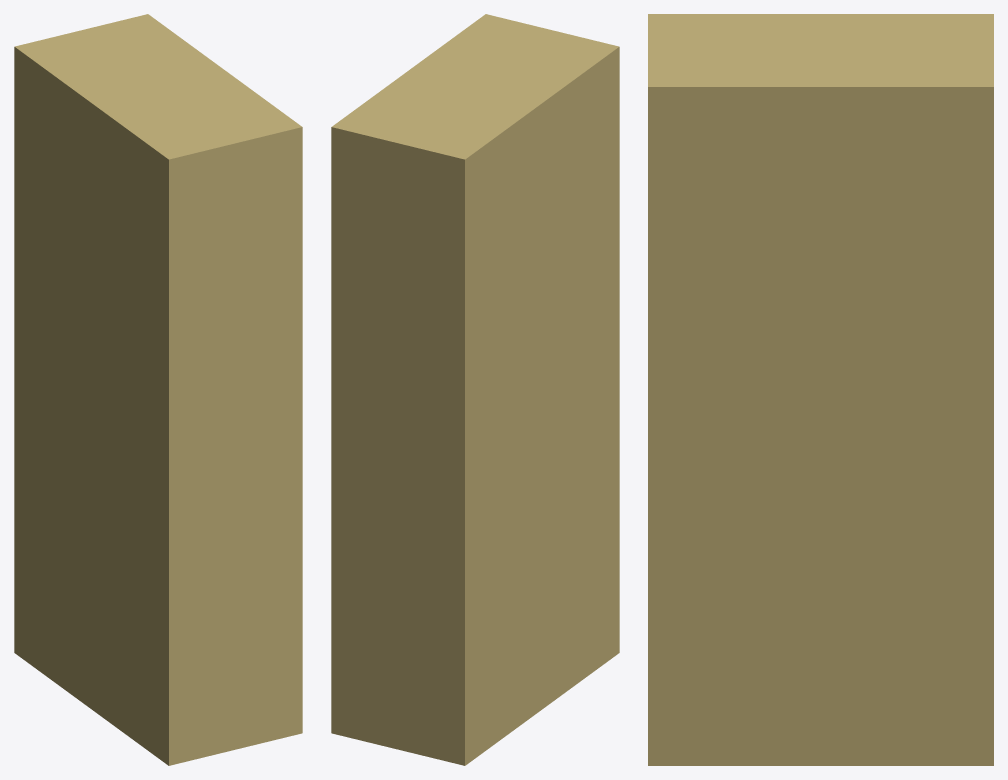
3 views of the same model, side by side, from view 1: azimuth 30°, elevation 25°; view 2: azimuth 150°, elevation 25°; view 3: azimuth 270°, elevation 25° (orthographic). The views are drawn at different scales.
Parts seen in each view (by area): view 1: GAP-40b-HIGH-3; view 2: GAP-40b-HIGH-3; view 3: GAP-40b-HIGH-3.
Boxes of the visible parts, left/top/right/bottom form: GAP-40b-HIGH-3: left=14, top=14, right=302, bottom=765; GAP-40b-HIGH-3: left=331, top=14, right=619, bottom=765; GAP-40b-HIGH-3: left=648, top=14, right=993, bottom=765.
Bounding box in the file's own units: 0.045 × 0.195 × 0.09.
